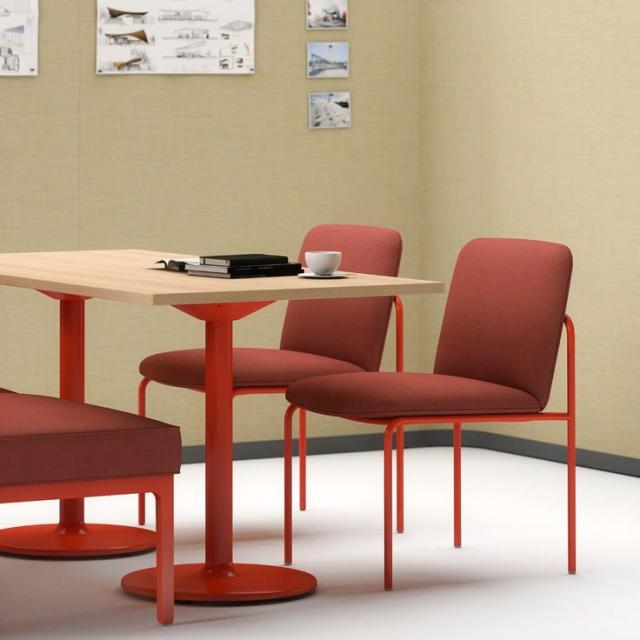obstacle: (0, 247, 445, 605), (282, 236, 577, 591), (0, 386, 182, 625)
